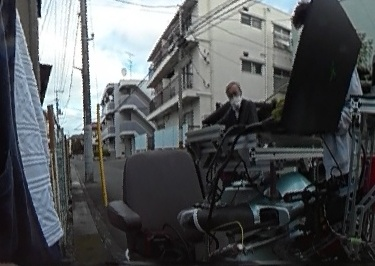person: (215, 80, 262, 125)
